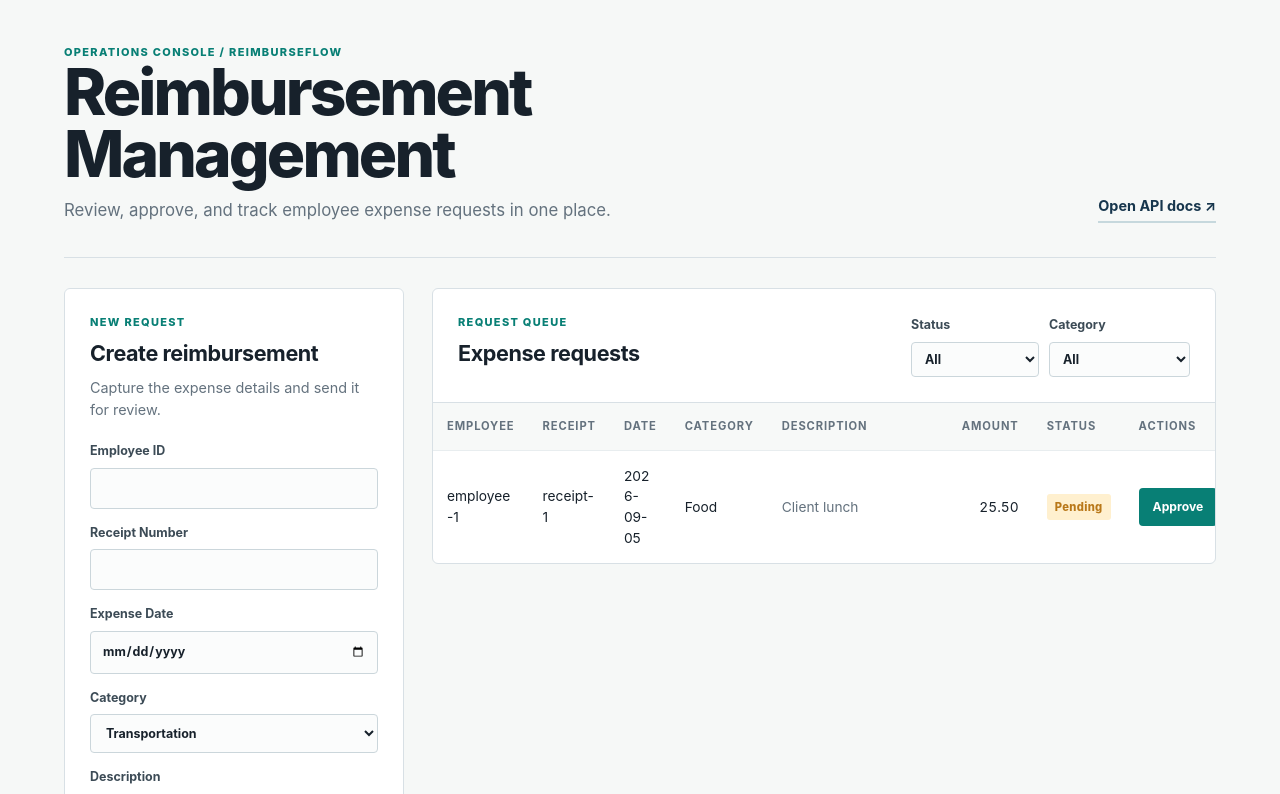
Test case: ReimbursementsPage › clears action errors when a new action starts and after it succeeds
The image size is (1280, 794).
Expected: the text "employee-1" is shown, [433,450,529,563]
Click the button "Approve": (1178,507) [1139,488,1217,526]
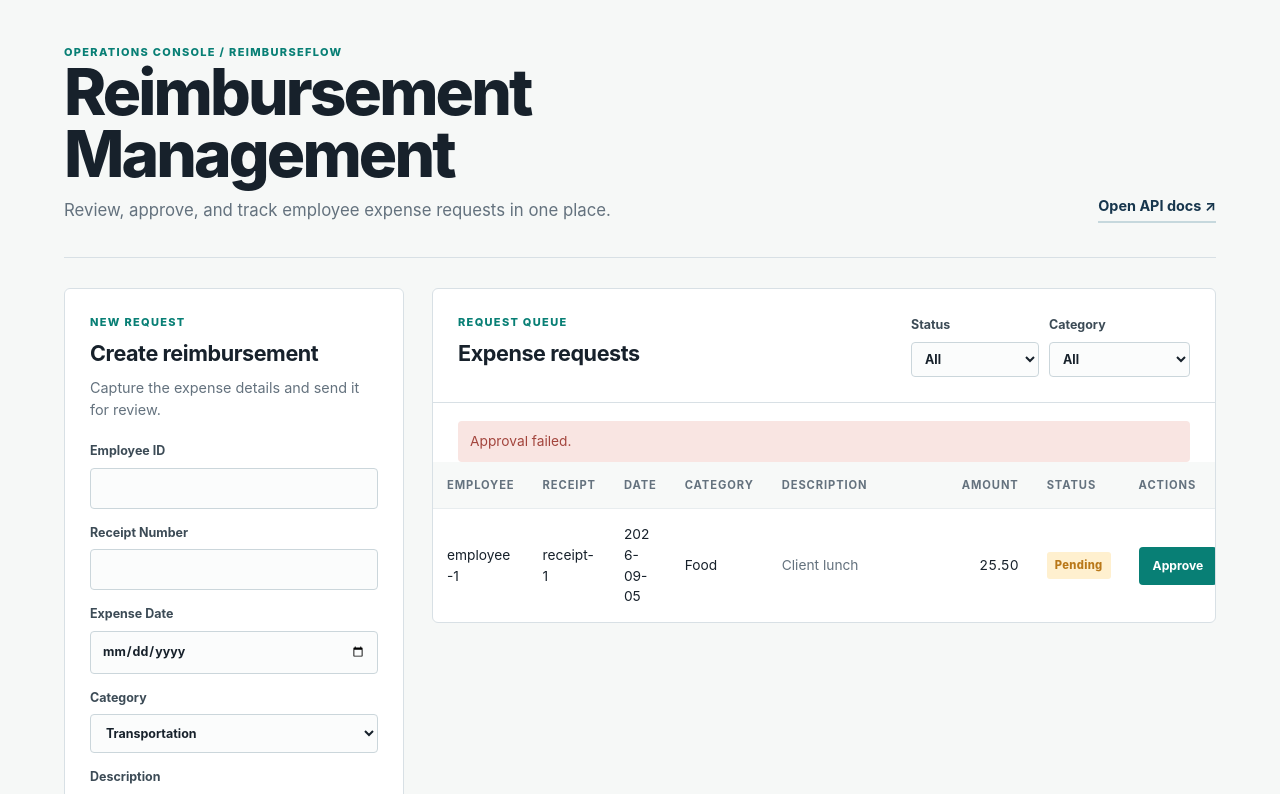
Expected: the text "Approval failed." is shown, [458,421,1190,462]
Click the button "Approve": (1178,566) [1139,547,1217,585]
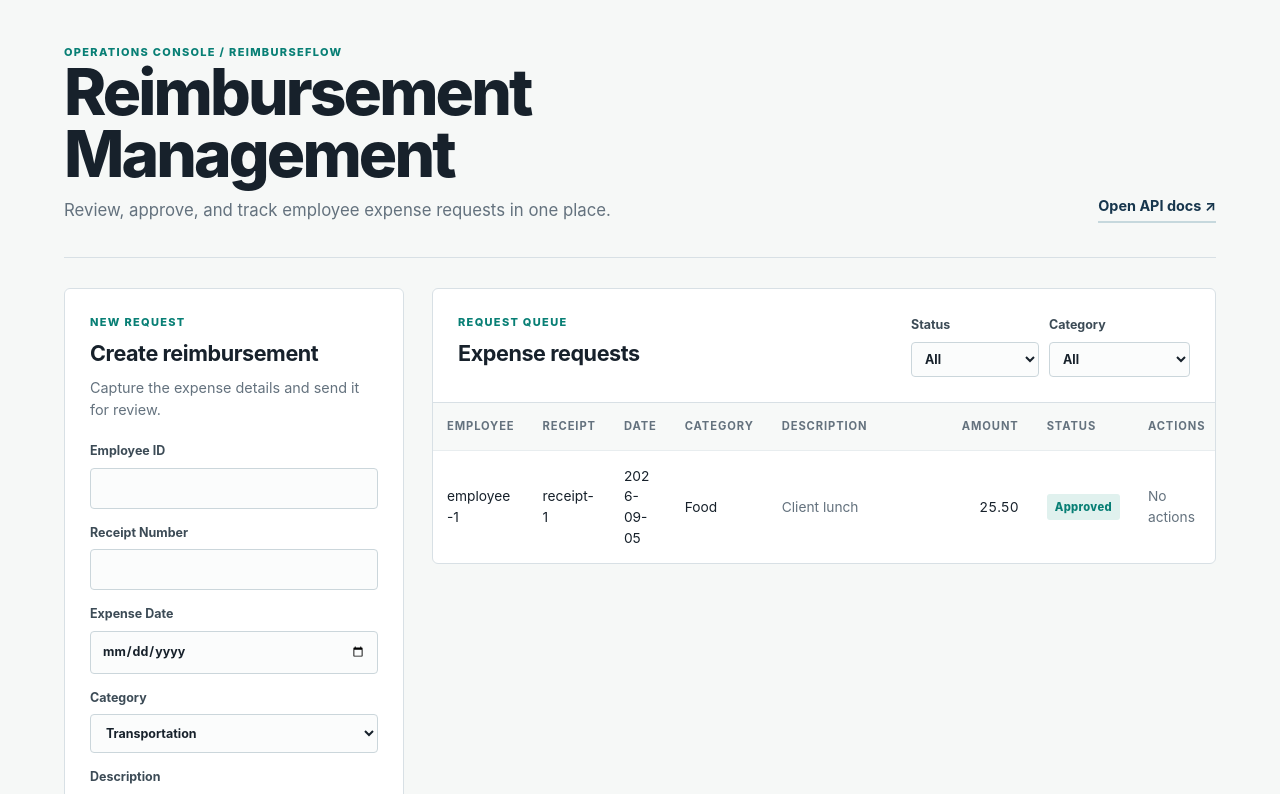
Expected: the text "Approval failed." is gone
